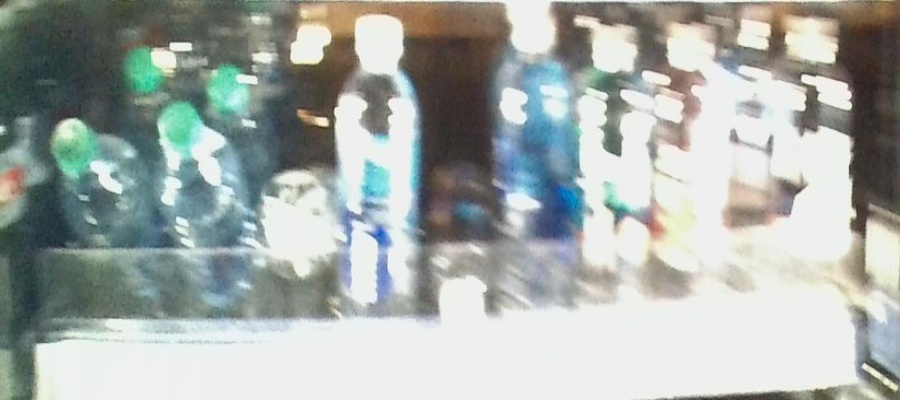bottle: (338, 12, 418, 337), (497, 8, 576, 332), (579, 30, 653, 321), (150, 105, 245, 327), (660, 20, 717, 313), (44, 110, 138, 258), (262, 155, 333, 291), (426, 199, 489, 343)
